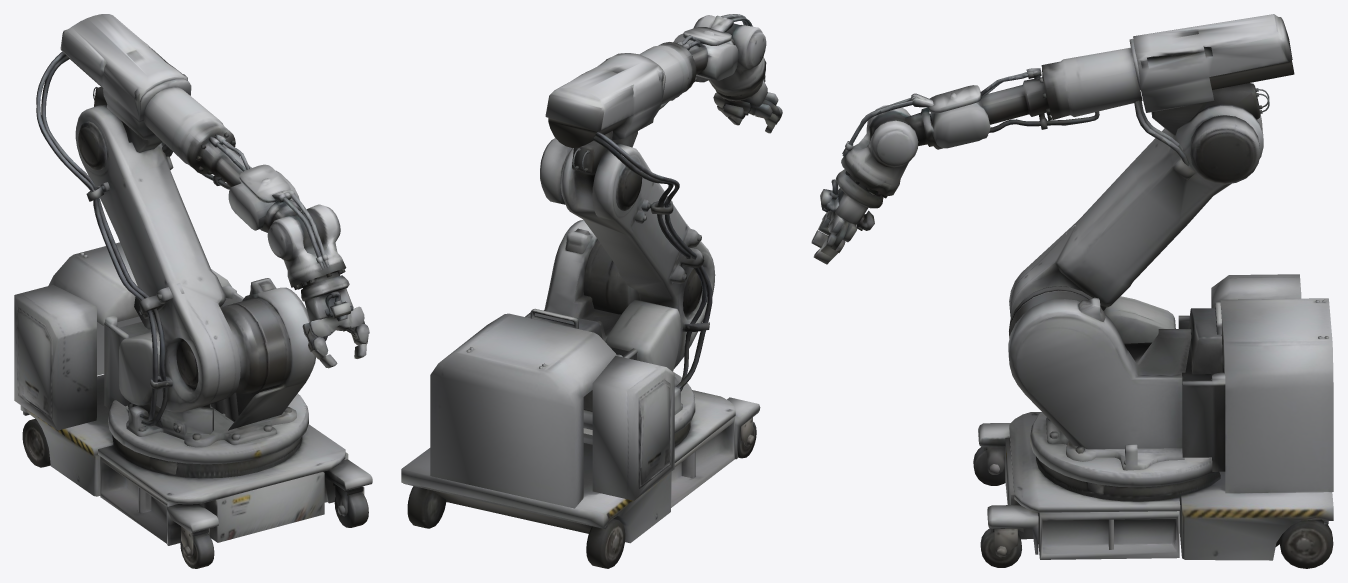
The model's file is industrial robot arm 3d model.fbx.
3 views of the same model, side by side, from view 1: azimuth 30°, elevation 25°; view 2: azimuth 150°, elevation 25°; view 3: azimuth 270°, elevation 25° (orthographic). The views are drawn at different scales.
Visible parts, largest first — view 1: Base, brazo_1, Brazo_2, Pinza, Cable_5, Cable_8, Base_Brazo2; view 2: Base, brazo_1, Brazo_2, Pinza, Cable_5, Cable_8, Base_Brazo2; view 3: Base, Brazo_2, brazo_1, Pinza, Base_Brazo2.
Boxes of the visible parts, box(x1,y1,x2,y2) form: Base: box(14, 242, 372, 568); brazo_1: box(75, 105, 240, 412); Brazo_2: box(60, 14, 300, 232); Pinza: box(267, 204, 369, 368); Cable_5: box(36, 52, 157, 421); Cable_8: box(41, 55, 167, 426); Base_Brazo2: box(93, 87, 162, 152); Base: box(401, 220, 760, 568); brazo_1: box(540, 138, 715, 371); Brazo_2: box(545, 15, 738, 147); Pinza: box(693, 15, 782, 133); Cable_5: box(595, 131, 712, 389); Cable_8: box(592, 136, 707, 391); Base_Brazo2: box(572, 130, 637, 173); Base: box(973, 274, 1333, 568); Brazo_2: box(905, 14, 1294, 149); brazo_1: box(1009, 104, 1263, 343); Pinza: box(811, 105, 918, 264); Base_Brazo2: box(1151, 83, 1269, 135).
Bounding box in the file's own units: 0.5054 × 0.9995 × 0.9907.
